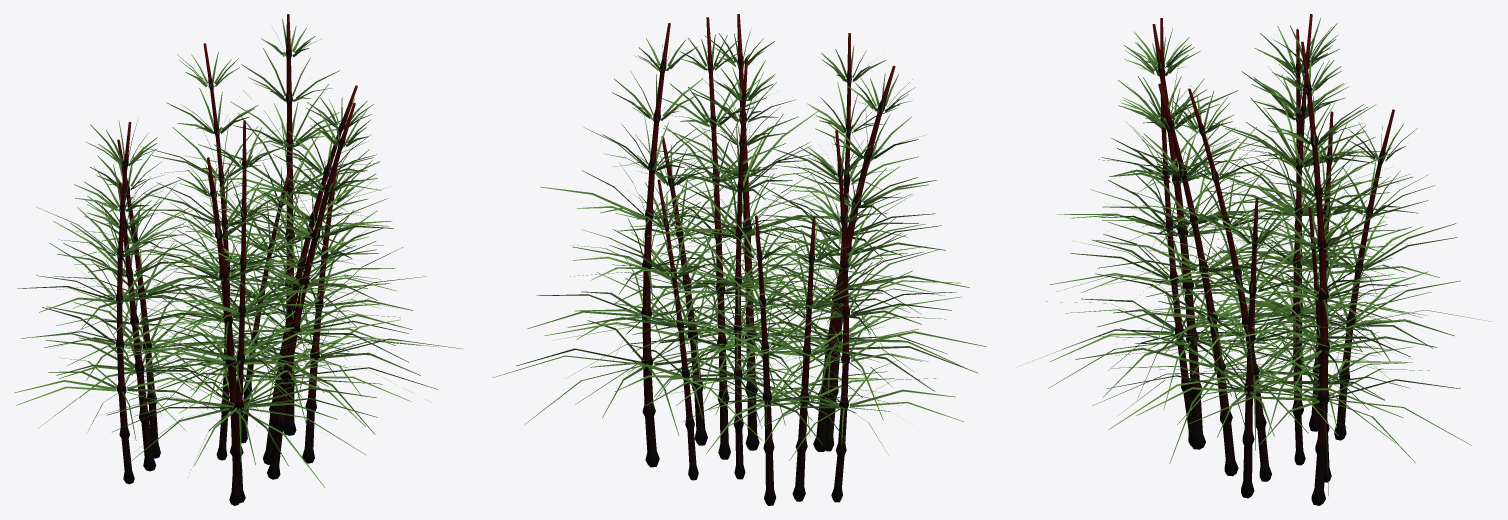
The model's file is horsetail_v01.glb.
3 views of the same model, side by side, from view 1: azimuth 30°, elevation 25°; view 2: azimuth 150°, elevation 25°; view 3: azimuth 270°, elevation 25° (orthographic). The views are drawn at different scales.
Parts seen in each view (by area): view 1: horsetail_v01; view 2: horsetail_v01; view 3: horsetail_v01.
Boxes of the visible parts, x1,y1,x2,y2 form: horsetail_v01: (14, 14, 463, 505); horsetail_v01: (492, 14, 986, 505); horsetail_v01: (1020, 14, 1492, 505).
Size of the model in its own units: 0.3122 by 0.3143 by 0.2977.
Materials: 2 (2 with a texture image).
